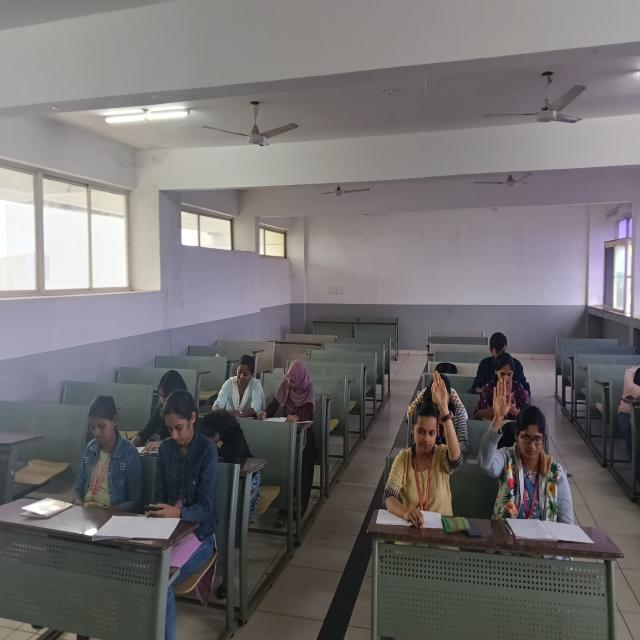Hand Rising: (374, 368, 490, 506), (481, 378, 585, 516)
Sleeping: (196, 410, 277, 519)
Using Phone: (138, 380, 218, 548), (53, 376, 151, 512), (478, 330, 541, 414)
Writing: (104, 344, 208, 459), (252, 332, 329, 442), (198, 333, 274, 440)
